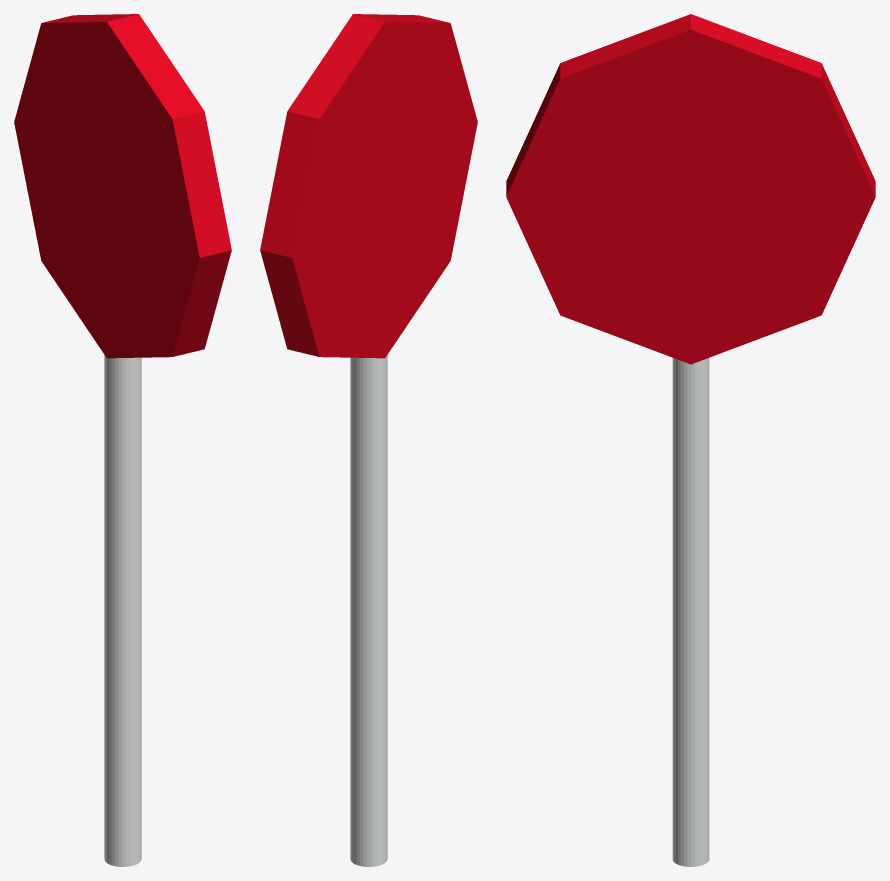
File: StopSign.fbx
The picture shows the model from 3 angles, left to right: view 1: azimuth 30°, elevation 25°; view 2: azimuth 150°, elevation 25°; view 3: azimuth 270°, elevation 25°; orthographic projection.
Visible parts, largest first — view 1: Cylinder.001, Cylinder; view 2: Cylinder.001, Cylinder; view 3: Cylinder.001, Cylinder.
Part boxes in pixels (x1,y1,x2,y2): Cylinder.001: (14, 14, 231, 358); Cylinder: (104, 355, 141, 866); Cylinder.001: (260, 14, 477, 358); Cylinder: (350, 355, 387, 866); Cylinder.001: (506, 14, 875, 364); Cylinder: (672, 358, 709, 866).
Size of the model in its own units: 5 by 125 by 50.
